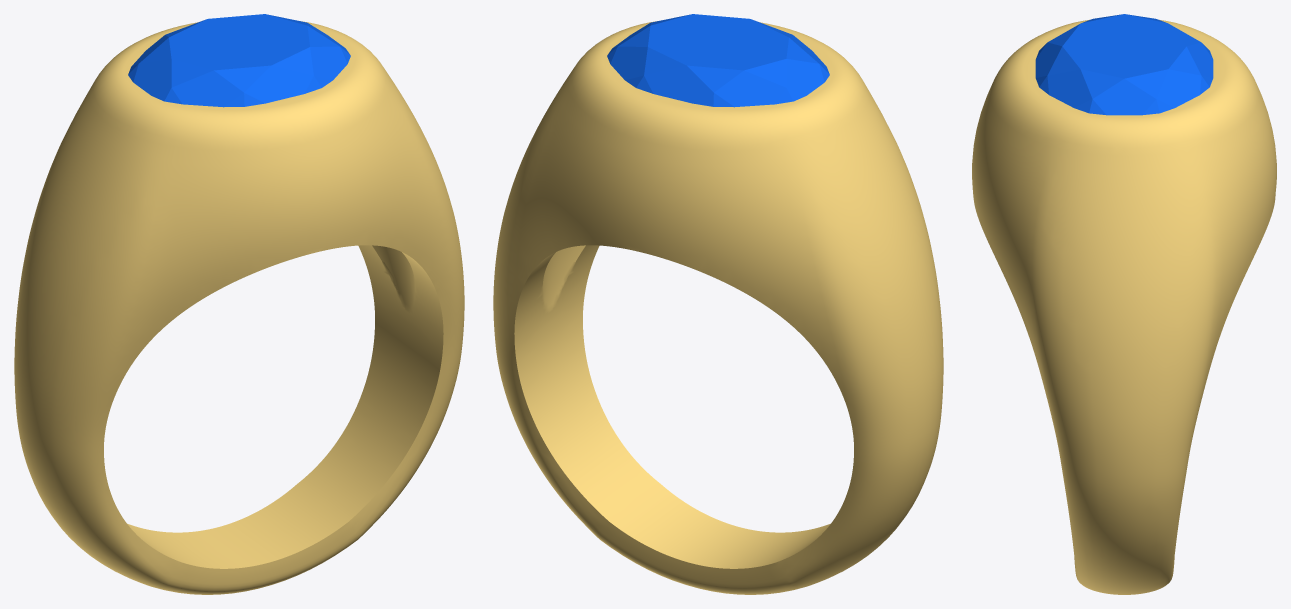
The model's file is Fran v2.glb.
The picture shows the model from 3 angles, left to right: view 1: azimuth 30°, elevation 25°; view 2: azimuth 150°, elevation 25°; view 3: azimuth 270°, elevation 25°; orthographic projection. The views are drawn at different scales.
Parts seen in each view (by area): view 1: v2 Fran YG for 3d model, Fran sapph for 3d model; view 2: v2 Fran YG for 3d model, Fran sapph for 3d model; view 3: v2 Fran YG for 3d model, Fran sapph for 3d model.
Boxes of the visible parts, left/top/right/bottom form: v2 Fran YG for 3d model: left=14, top=21, right=464, bottom=594; Fran sapph for 3d model: left=128, top=14, right=350, bottom=107; v2 Fran YG for 3d model: left=493, top=21, right=943, bottom=594; Fran sapph for 3d model: left=607, top=14, right=829, bottom=107; v2 Fran YG for 3d model: left=972, top=19, right=1276, bottom=594; Fran sapph for 3d model: left=1035, top=14, right=1213, bottom=115.
Size of the model in its own units: 22.07 by 26.81 by 14.08.
